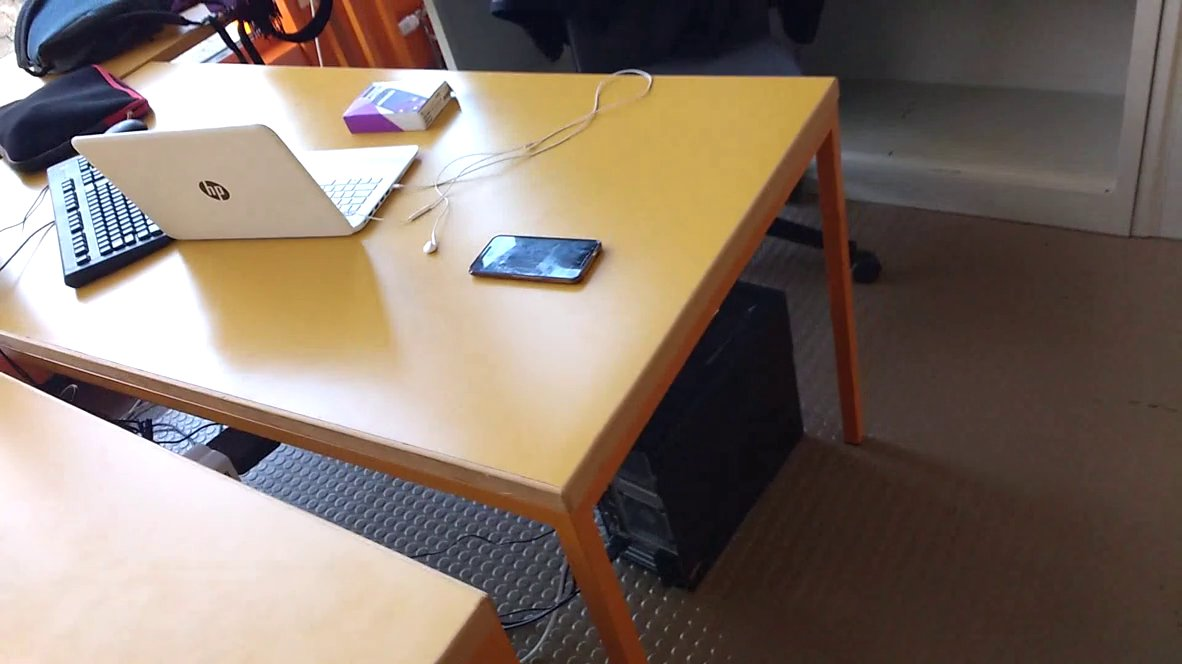laptop: (63, 119, 425, 249)
phone: (460, 227, 614, 291)
